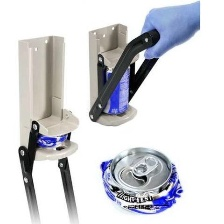can: (96, 144, 186, 215), (101, 62, 132, 116), (34, 131, 72, 150)
